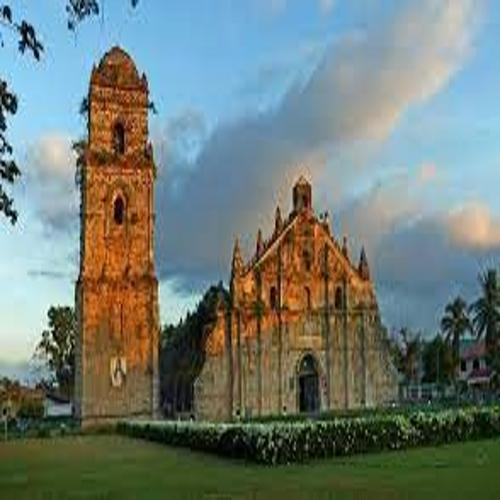Paoay Church: (62, 32, 417, 438)
